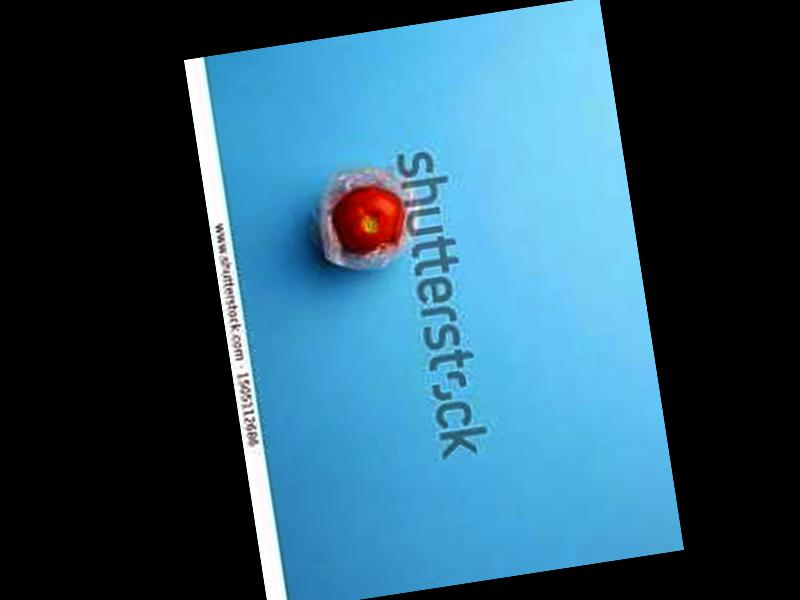Tomato: (330, 183, 409, 258)
